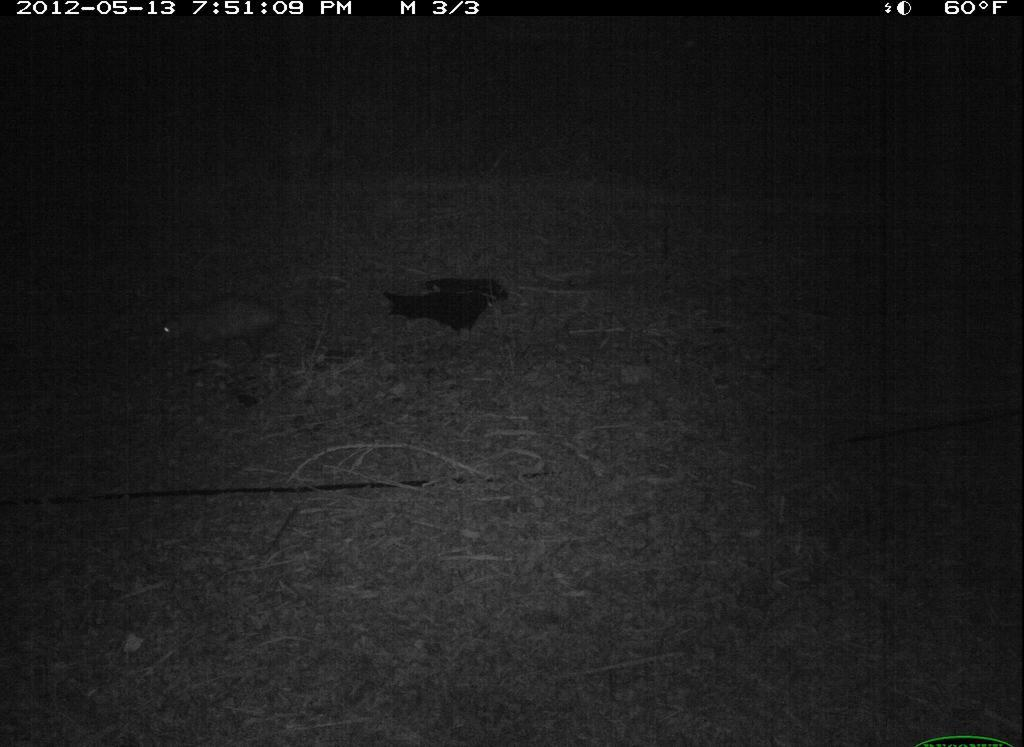opossum: (149, 289, 336, 370)
